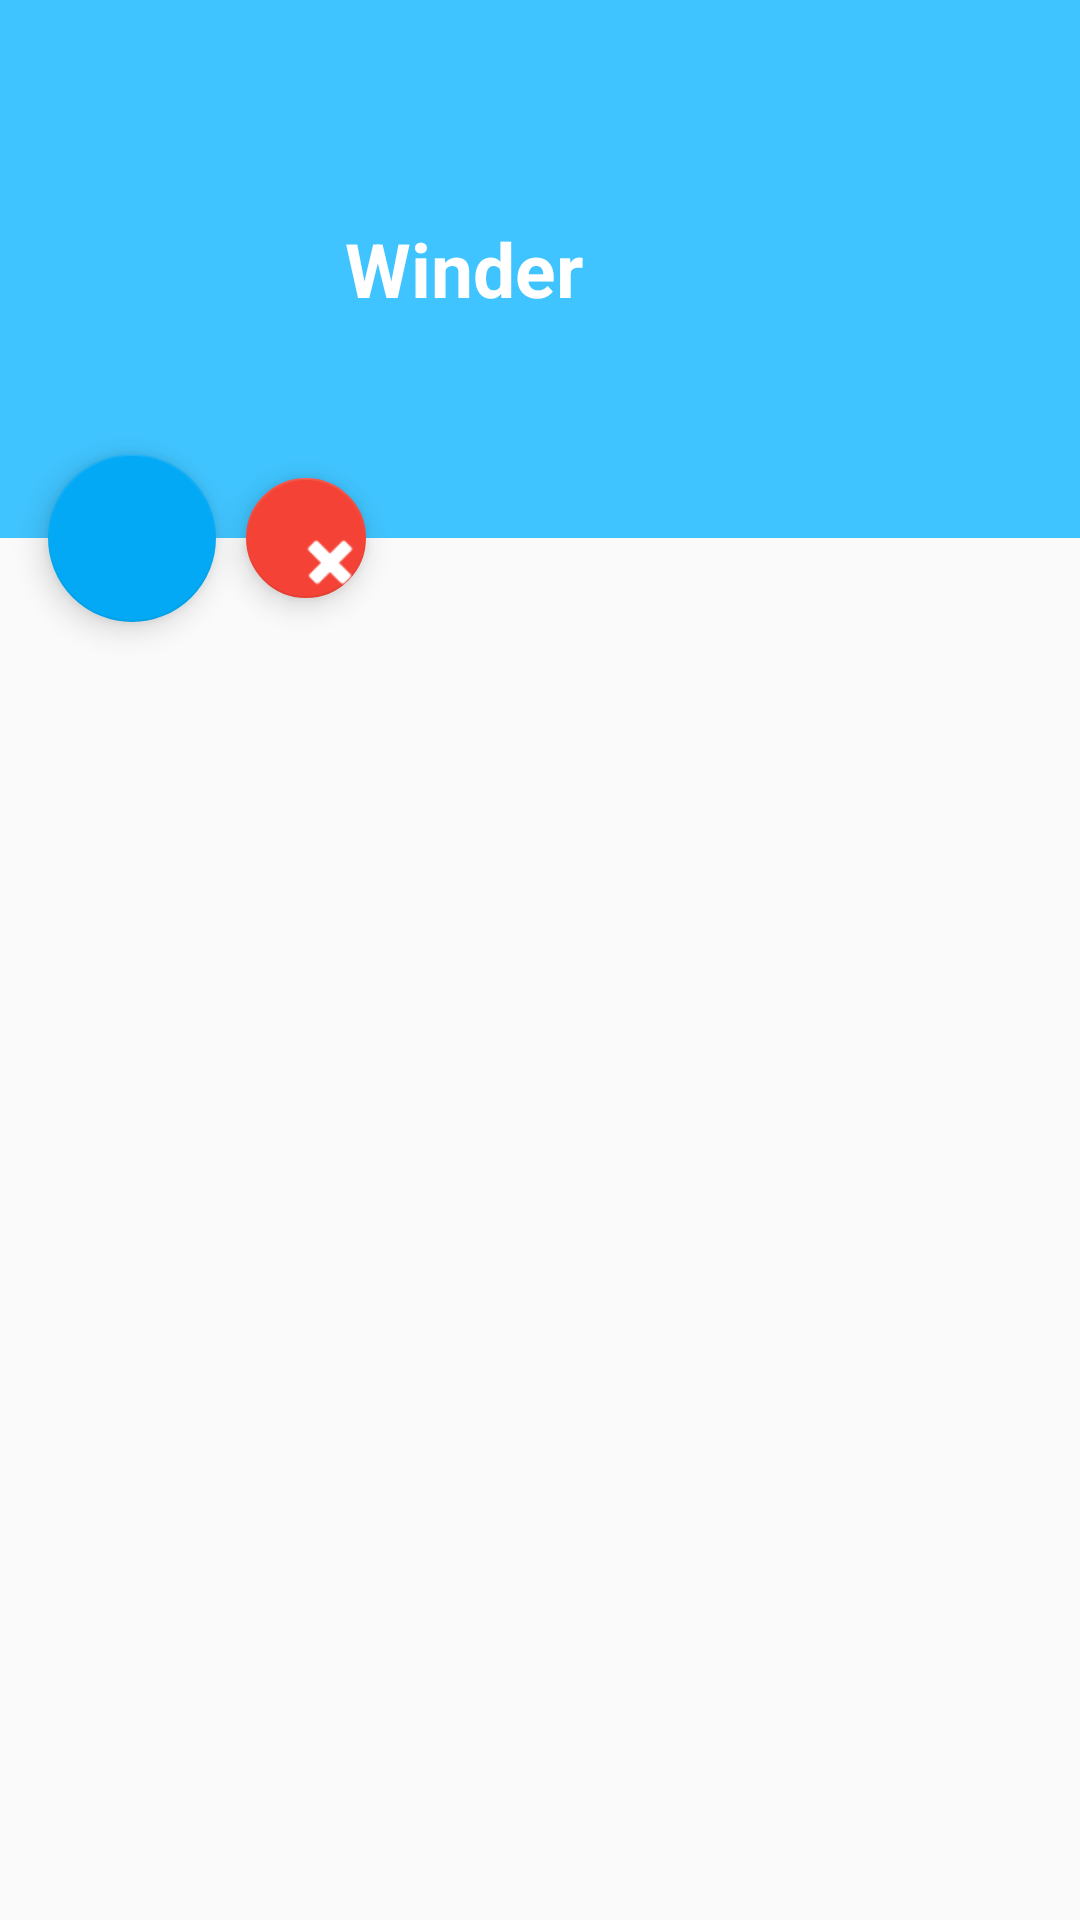

Screen size 1080w x 1920h. Icon name, then its center in pixels as [x,y]:
delete: [306,538]
